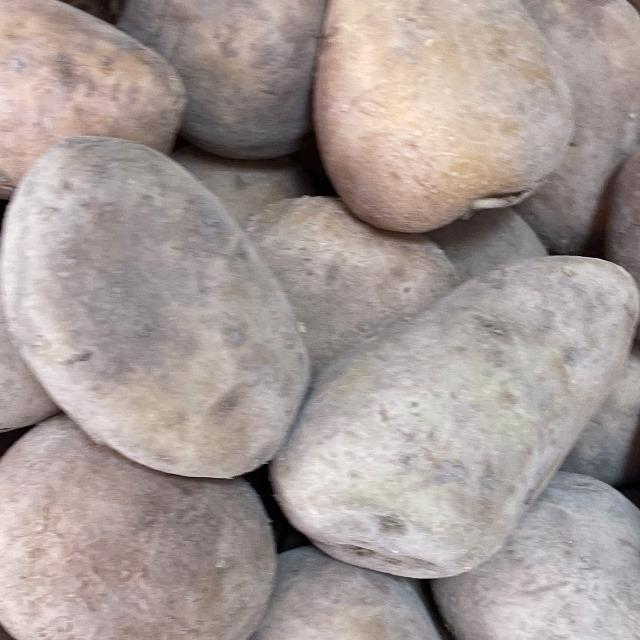potato: (250, 232, 640, 597), (0, 120, 340, 507), (287, 0, 597, 230), (0, 0, 210, 190), (212, 507, 502, 640)
